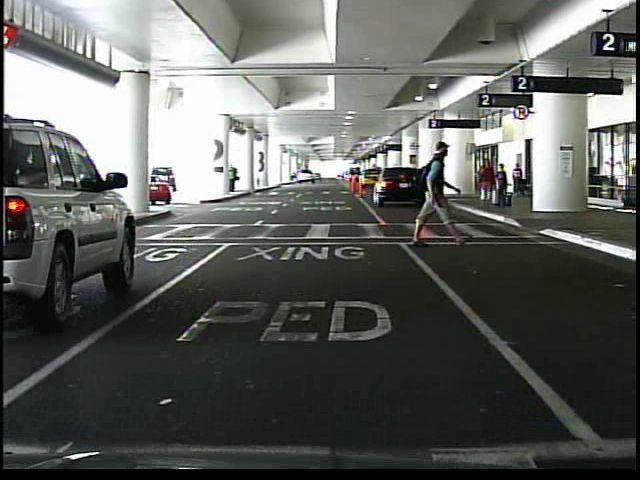person: (402, 143, 476, 248), (474, 158, 497, 203), (497, 162, 512, 207), (513, 162, 523, 194), (229, 164, 239, 194)
